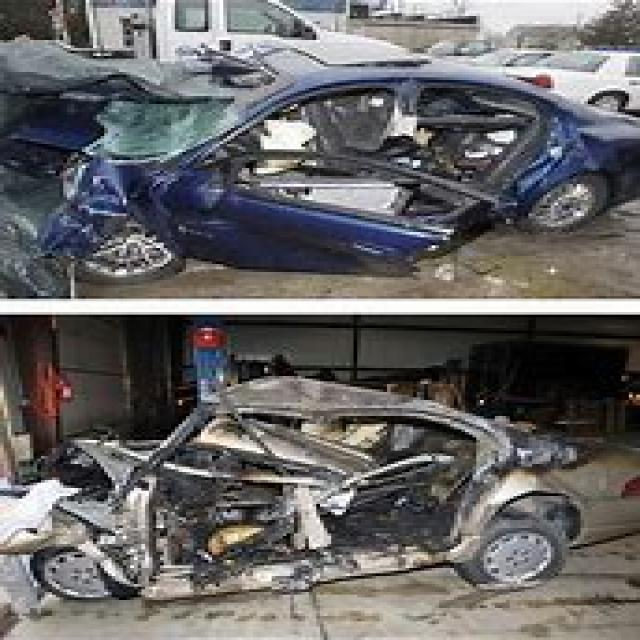Accident: (46, 25, 591, 286), (68, 349, 584, 616)
